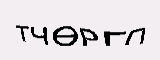Г: (103, 30, 126, 47)
П: (123, 26, 147, 48)
Р: (79, 27, 101, 46)
Т: (14, 23, 29, 43)
Ч: (29, 26, 50, 45)
Ө: (52, 25, 79, 47)
